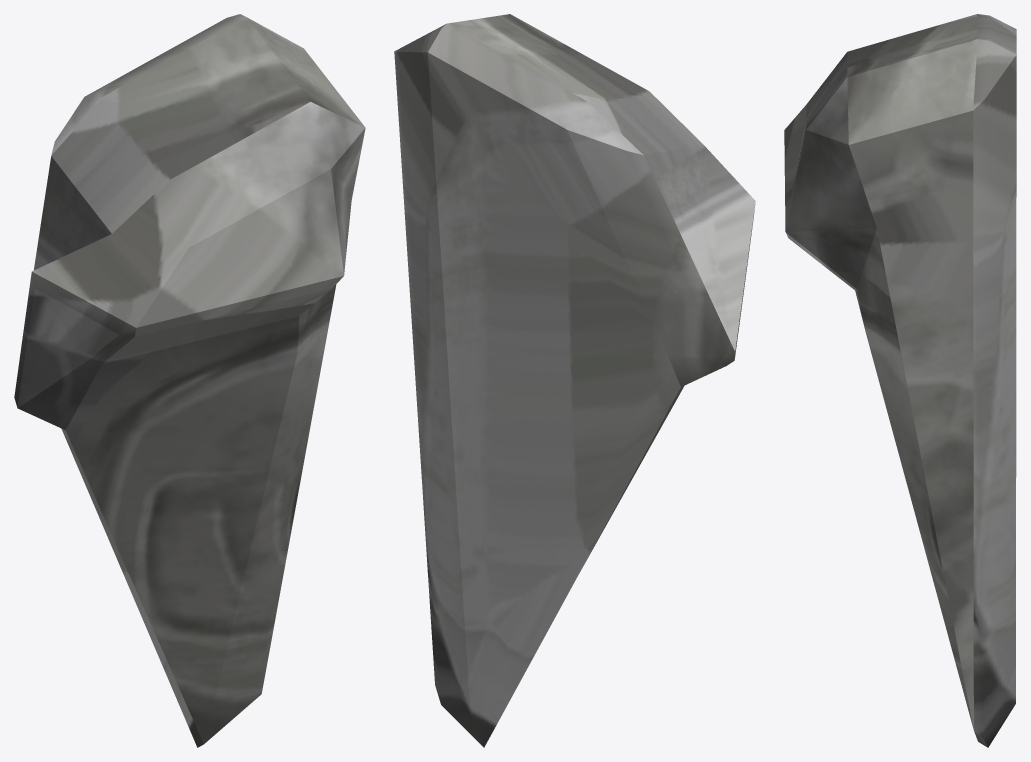
The model's file is 8_R_Chica.fbx.
3 renders of one model, left to right at view 1: azimuth 30°, elevation 25°; view 2: azimuth 150°, elevation 25°; view 3: azimuth 270°, elevation 25°, orthographic. The views are drawn at different scales.
Parts seen in each view (by area): view 1: 8_R_Chica_Low; view 2: 8_R_Chica_Low; view 3: 8_R_Chica_Low.
Part boxes in pixels (bbox=[...]): 8_R_Chica_Low: bbox=[14, 14, 365, 747]; 8_R_Chica_Low: bbox=[394, 14, 755, 747]; 8_R_Chica_Low: bbox=[784, 14, 1016, 747].
Bounding box in the file's own units: 659 × 1423 × 410.
